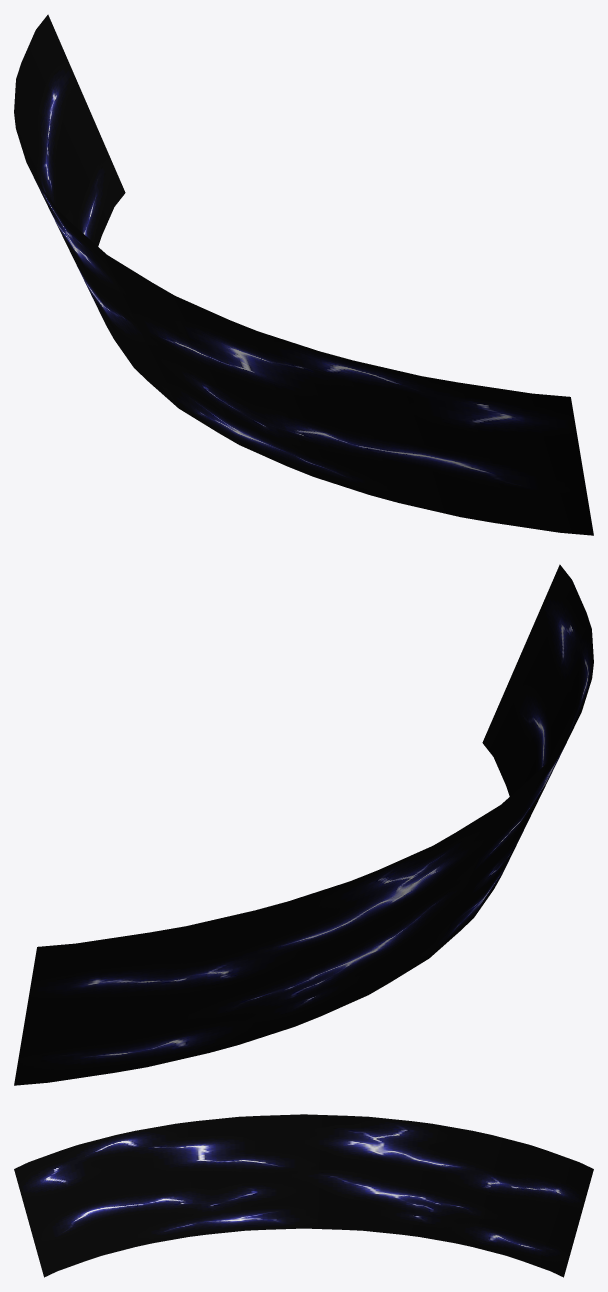
Rendered from 0482_xuanwoqilang_M.glb.
The picture shows the model from 3 angles, top to bottom: view 1: azimuth 30°, elevation 25°; view 2: azimuth 150°, elevation 25°; view 3: azimuth 270°, elevation 25°; orthographic projection. The views are drawn at different scales.
Size of the model in its own units: 0.6136 by 0.3971 by 2.2.
1 material, 1 textured.
